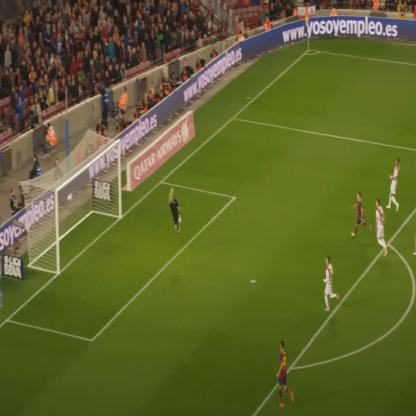goal: (10, 32, 404, 406)
